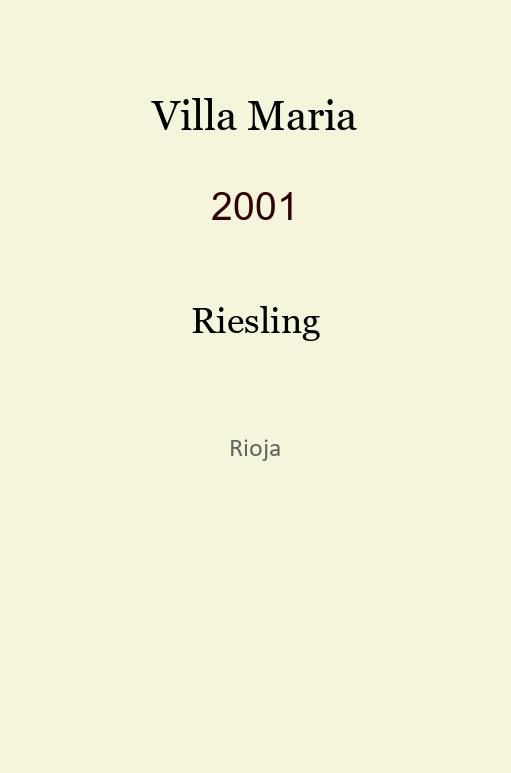brand: (152, 91, 358, 123)
region: (229, 436, 281, 458)
variety: (191, 299, 320, 334)
vintage: (211, 184, 299, 212)
